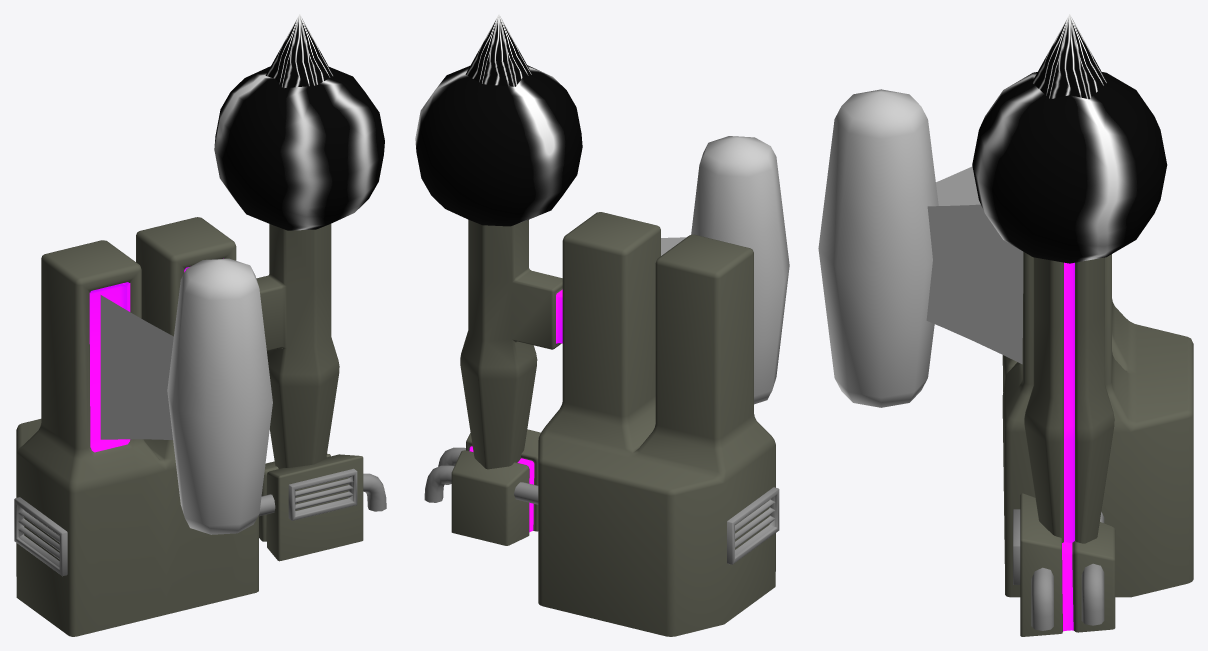
Rendered from Station.fbx.
The picture shows the model from 3 angles, left to right: view 1: azimuth 30°, elevation 25°; view 2: azimuth 150°, elevation 25°; view 3: azimuth 270°, elevation 25°; orthographic projection. The views are drawn at different scales.
Visible parts, largest first — view 1: LiftBase, BuildFX2, StationBase, EnergySkin, BuildFX, EnergyFX, ChargeAero, LiftAero, Alim1; view 2: LiftBase, StationBase, EnergySkin, BuildFX2, EnergyFX, LiftAero, Alim1; view 3: BuildFX2, LiftBase, EnergySkin, StationBase, BuildFX, EnergyFX, Alim1, ChargeAero.
Boxes of the visible parts, x1=… form: LiftBase: x1=16, y1=217, x2=258, y2=636; BuildFX2: x1=167, y1=258, x2=272, y2=534; StationBase: x1=256, y1=224, x2=363, y2=561; EnergySkin: x1=214, y1=66, x2=384, y2=230; BuildFX: x1=100, y1=295, x2=173, y2=439; EnergyFX: x1=265, y1=14, x2=333, y2=88; ChargeAero: x1=288, y1=468, x2=357, y2=520; LiftAero: x1=14, y1=497, x2=67, y2=576; Alim1: x1=363, y1=473, x2=386, y2=511; LiftBase: x1=538, y1=212, x2=775, y2=636; StationBase: x1=451, y1=219, x2=562, y2=545; EnergySkin: x1=415, y1=65, x2=582, y2=226; BuildFX2: x1=691, y1=136, x2=789, y2=404; EnergyFX: x1=465, y1=14, x2=532, y2=86; LiftAero: x1=727, y1=487, x2=779, y2=564; Alim1: x1=424, y1=447, x2=465, y2=502; BuildFX2: x1=818, y1=89, x2=938, y2=407; LiftBase: x1=1002, y1=252, x2=1193, y2=597; EnergySkin: x1=972, y1=72, x2=1167, y2=263; StationBase: x1=1020, y1=257, x2=1115, y2=636; BuildFX: x1=926, y1=166, x2=1023, y2=364; EnergyFX: x1=1032, y1=14, x2=1107, y2=99; Alim1: x1=1031, y1=563, x2=1104, y2=630; ChargeAero: x1=1013, y1=509, x2=1020, y2=584.
Bounding box in the file's own units: 710 × 1091 × 597.
